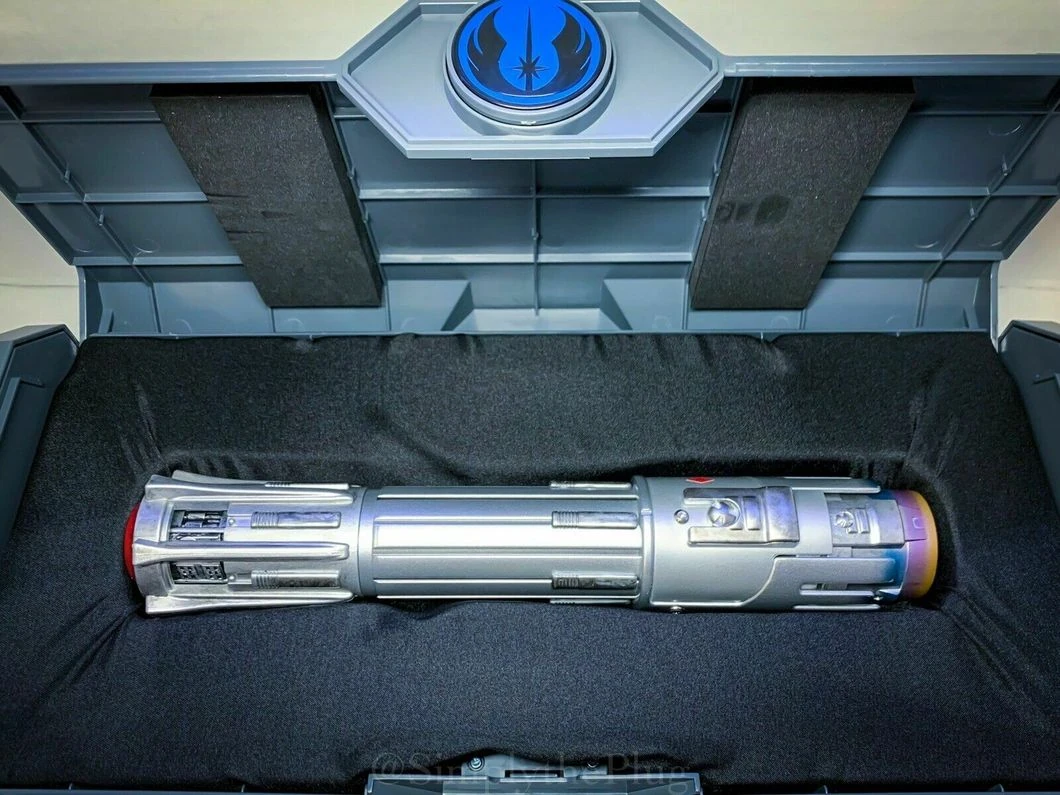Dalek: (118, 467, 951, 627)
